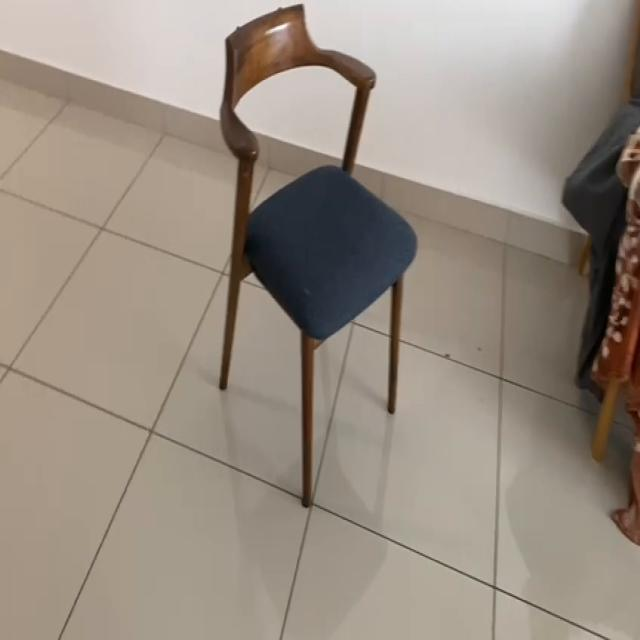Chair: (192, 1, 414, 485)
